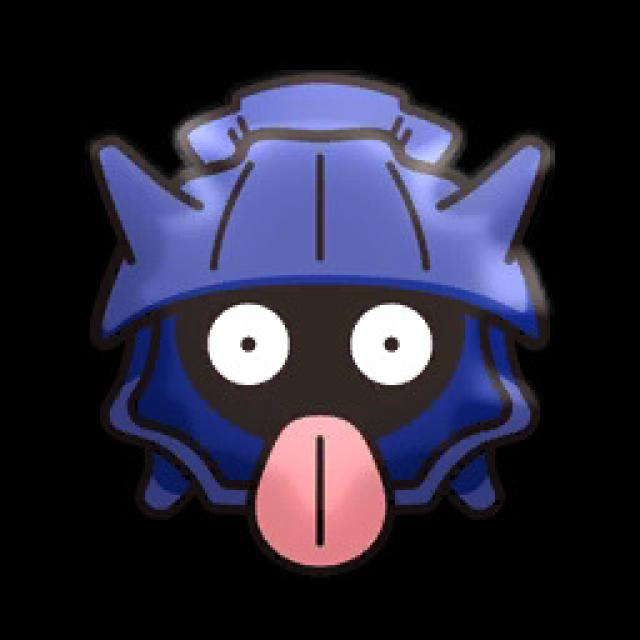Shellder: (84, 69, 581, 558)
